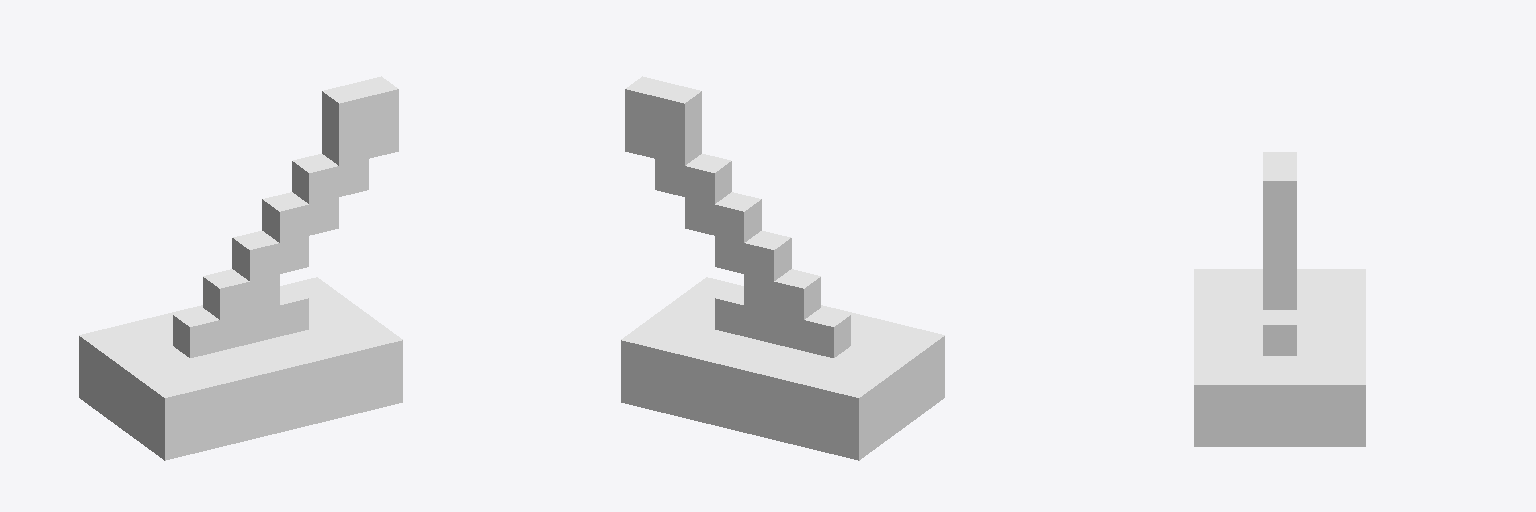
Rendered from offlever.obj.
The picture shows the model from 3 angles: view 1: azimuth 30°, elevation 25°; view 2: azimuth 150°, elevation 25°; view 3: azimuth 270°, elevation 25°; orthographic projection.
Parts seen in each view (by area): view 1: offlever; view 2: offlever; view 3: offlever.
Part boxes in pixels (x1,y1,x2,y2): offlever: (79, 76, 402, 460); offlever: (621, 76, 944, 460); offlever: (1194, 152, 1365, 446).
Bounding box in the file's own units: 9 × 9 × 5.